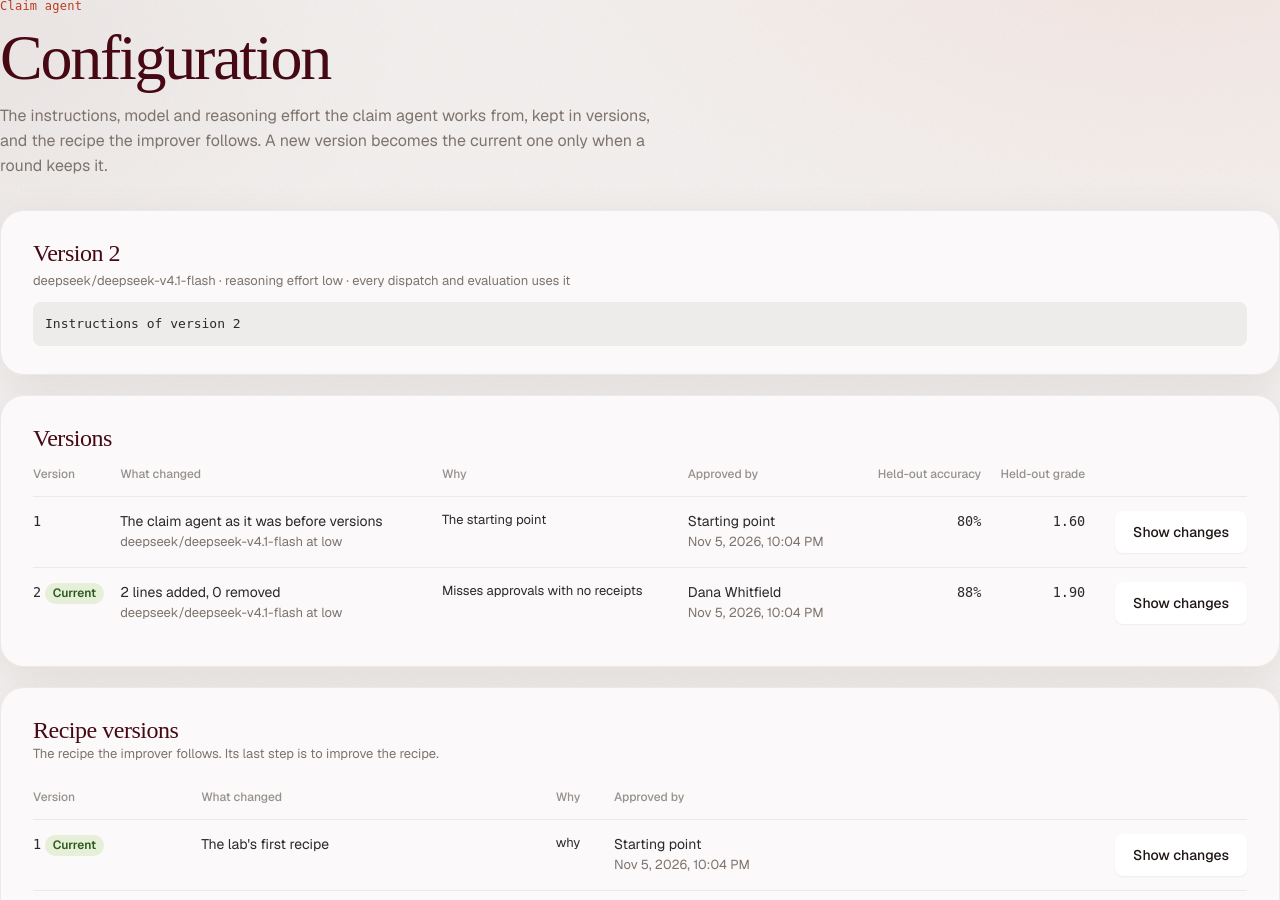
Test case: Configuration › opens a version's changes from the one before
This screenshot has width=1280, height=900.
What coordinates should you click on to do the following:
click the button with aria-label "Show changes in version 2"
I would click on:
 (1181, 604)
Its box is x1=1115 y1=582 x2=1247 y2=624.
(page scrolled)
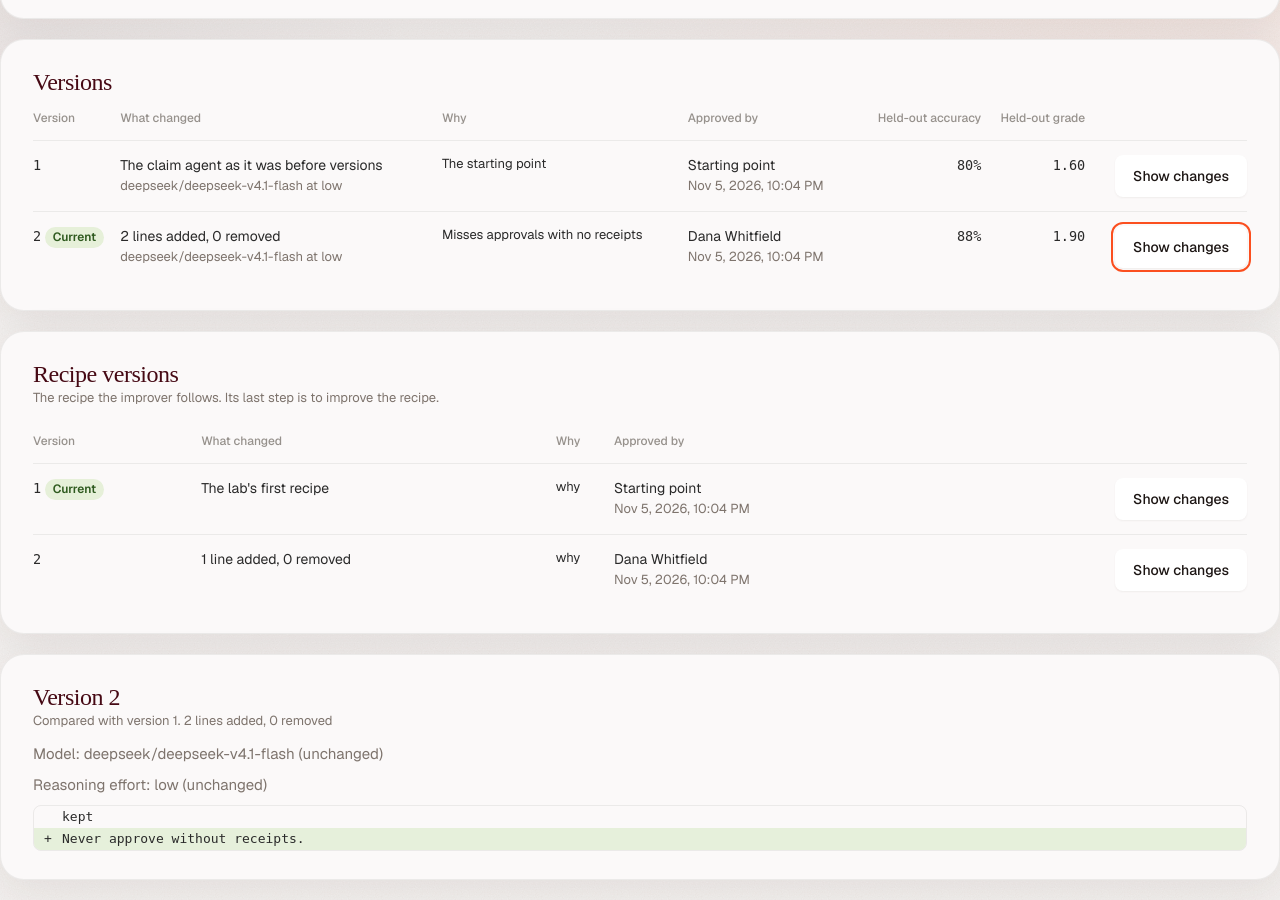
Check: the text "Never approve without receipts." is shown, box x1=62 y1=831 x2=305 y2=846
Check: the text "Compared with version 1. 2 lines added, 0 removed" is shown, box x1=33 y1=712 x2=333 y2=729
